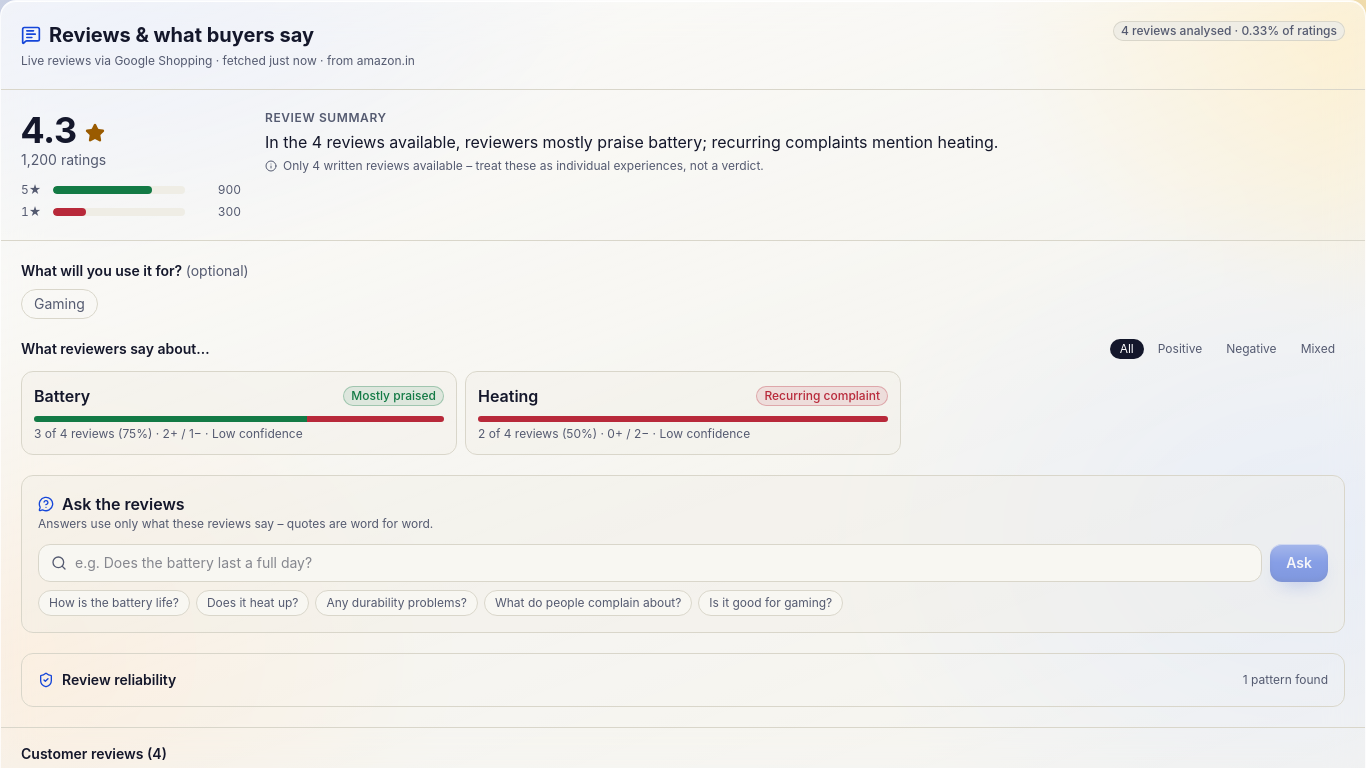
Test: ReviewsSection › adds an AI summary of the same quotes when the server provides one
Click the button "Does it heat up?" at point(253, 603), box [196,590,310,616]
(page scrolled)
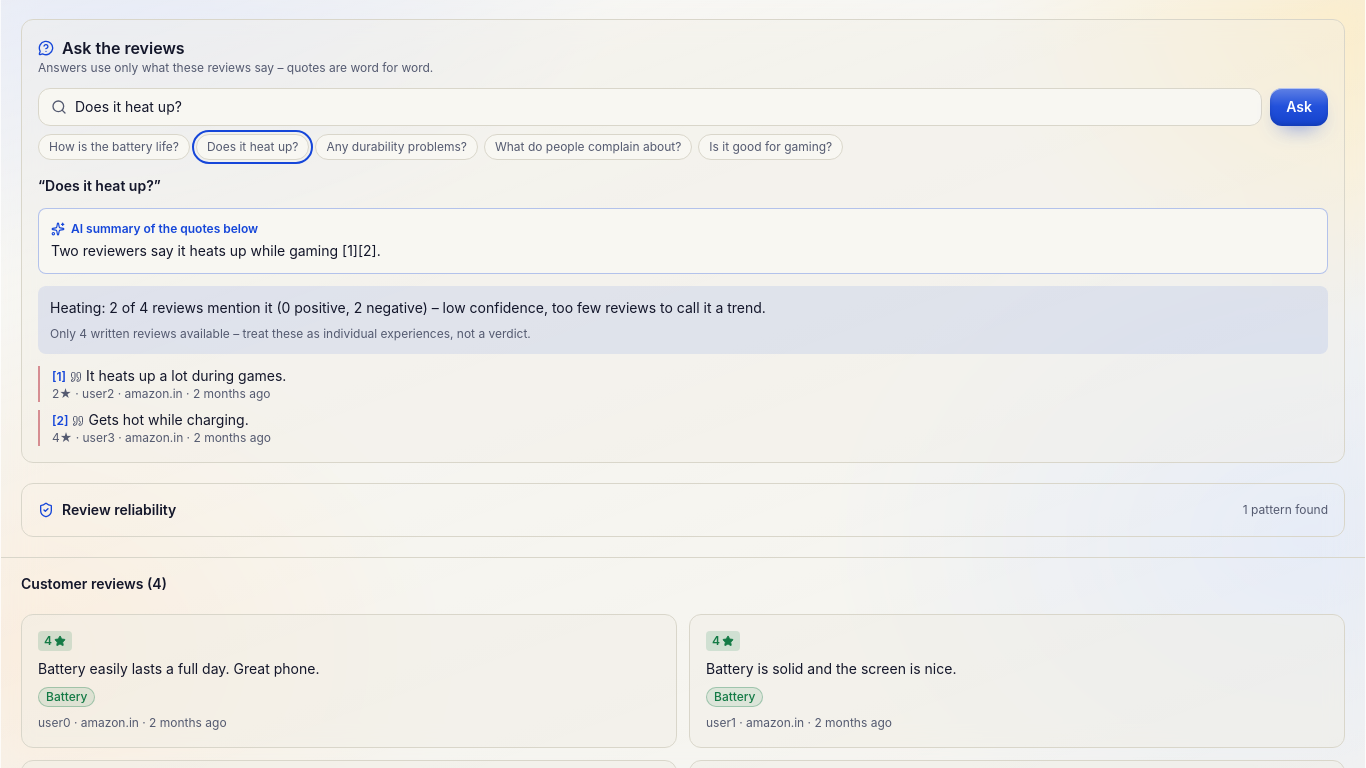
Result: the element with test id "ai-answer" shows "Two reviewers say it heats up while gaming [1][2]." at [51,242,381,259]
Result: the list item with test id "answer-excerpt" shows "[1]" at [38,366,1328,402]
